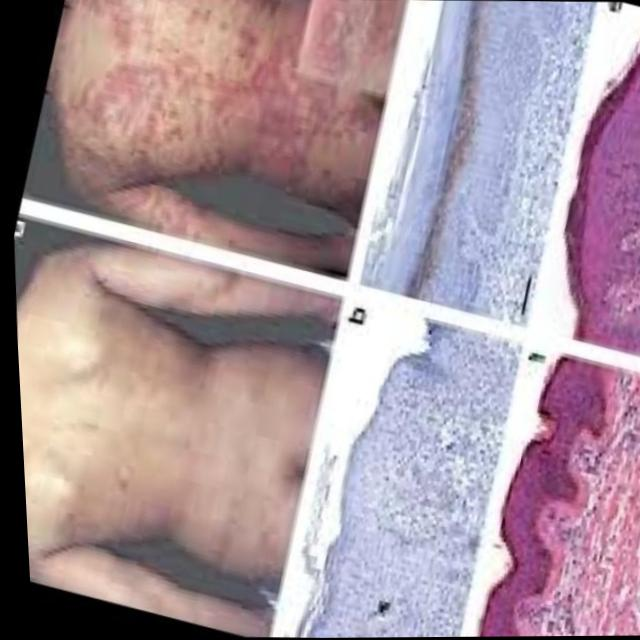Eczema: (85, 6, 327, 182)
